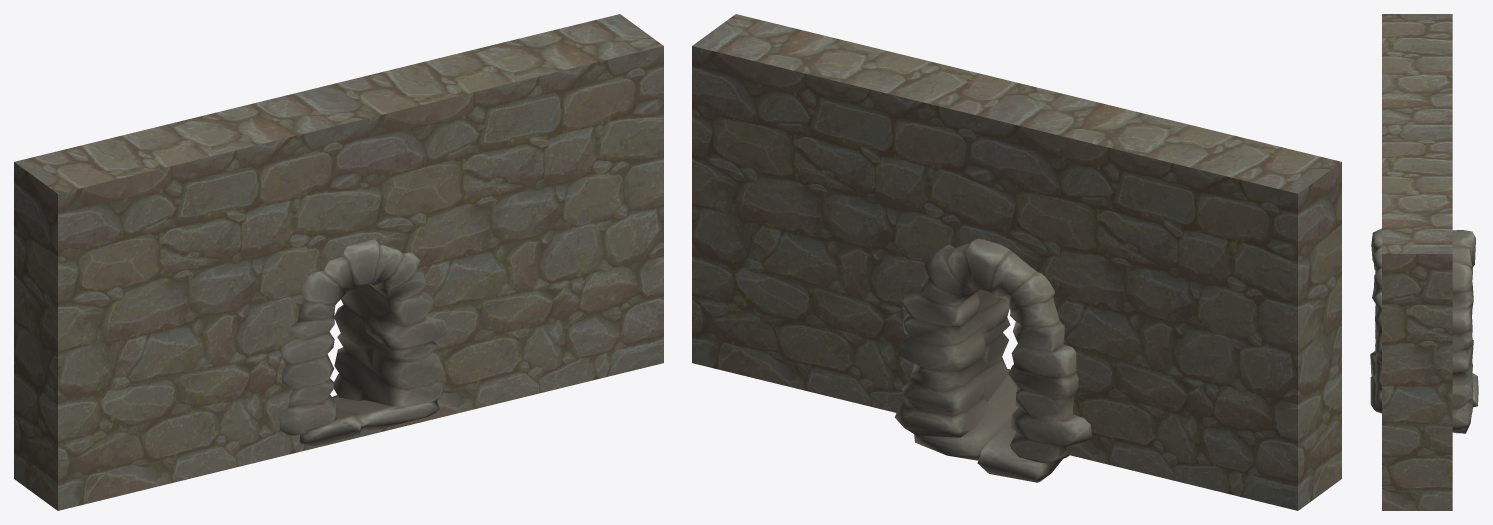
File: SM_FW01_Ruins_Int_Window_A_4x2_01.fbx
3 views of the same model, side by side, from view 1: azimuth 30°, elevation 25°; view 2: azimuth 150°, elevation 25°; view 3: azimuth 270°, elevation 25° (orthographic). The views are drawn at different scales.
Parts seen in each view (by area): view 1: SM_FW01_Ruins_Int_Window_A_4x2_01, SM_FW01_Ruins_Int_Window_A_4x2_01_LOD0; view 2: SM_FW01_Ruins_Int_Window_A_4x2_01, SM_FW01_Ruins_Int_Window_A_4x2_01_LOD0; view 3: SM_FW01_Ruins_Int_Window_A_4x2_01, SM_FW01_Ruins_Int_Window_A_4x2_01_LOD0.
Part boxes in pixels (x1,y1,x2,y2): SM_FW01_Ruins_Int_Window_A_4x2_01: [14, 14, 663, 510]; SM_FW01_Ruins_Int_Window_A_4x2_01_LOD0: [279, 239, 446, 445]; SM_FW01_Ruins_Int_Window_A_4x2_01: [692, 14, 1341, 510]; SM_FW01_Ruins_Int_Window_A_4x2_01_LOD0: [895, 238, 1091, 482]; SM_FW01_Ruins_Int_Window_A_4x2_01: [1382, 14, 1452, 510]; SM_FW01_Ruins_Int_Window_A_4x2_01_LOD0: [1370, 228, 1478, 433].
Size of what is drawn, in the model's own units: 4 by 2.15 by 0.7647.
